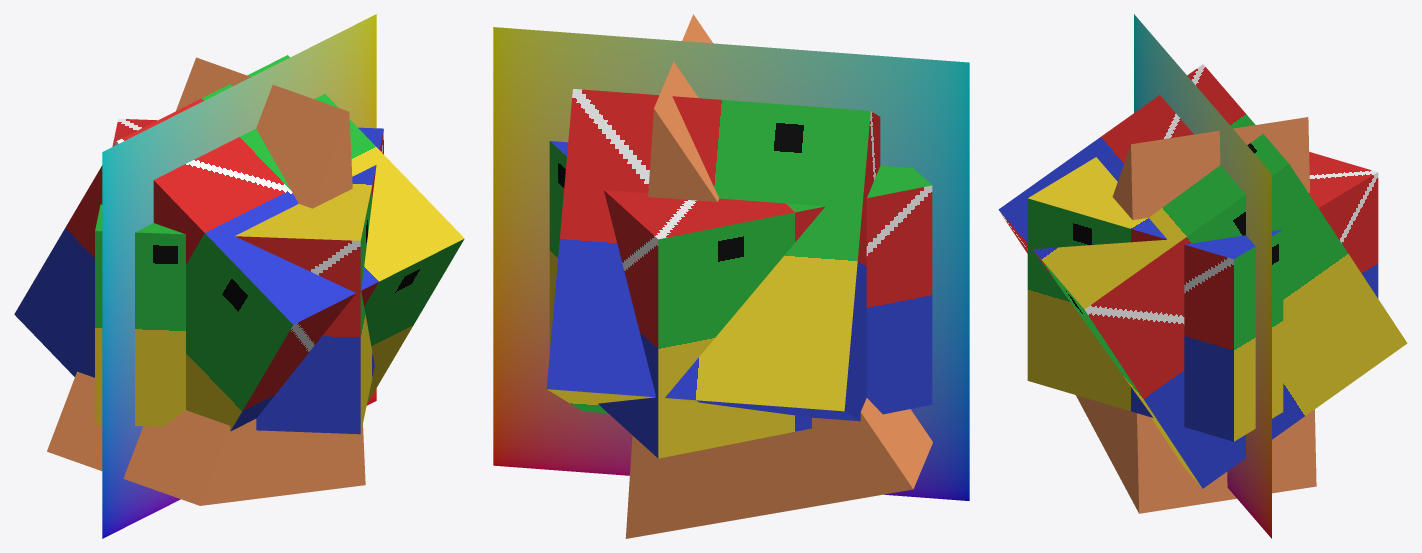
3 views of the same model, side by side, from view 1: azimuth 30°, elevation 25°; view 2: azimuth 150°, elevation 25°; view 3: azimuth 270°, elevation 25° (orthographic). The views are drawn at different scales.
Parts seen in each view (by area): view 1: box_node, mirrored_box, wedge_node, panel_node; view 2: panel_node, box_node, mirrored_box, wedge_node; view 3: box_node, mirrored_box, wedge_node, panel_node.
Part boxes in pixels (x1,y1,x2,y2): box_node: [14, 55, 464, 431]; mirrored_box: [95, 118, 383, 434]; wedge_node: [47, 57, 365, 505]; panel_node: [102, 14, 376, 538]; panel_node: [493, 27, 969, 500]; box_node: [546, 89, 880, 421]; mirrored_box: [549, 141, 932, 458]; wedge_node: [625, 14, 932, 538]; box_node: [998, 64, 1407, 488]; mirrored_box: [1027, 152, 1378, 441]; wedge_node: [1076, 117, 1316, 513]; panel_node: [1134, 14, 1271, 538].
Size of the model in its own units: 49682 by 54193 by 53268.
Materials: 3 (1 with a texture image).
